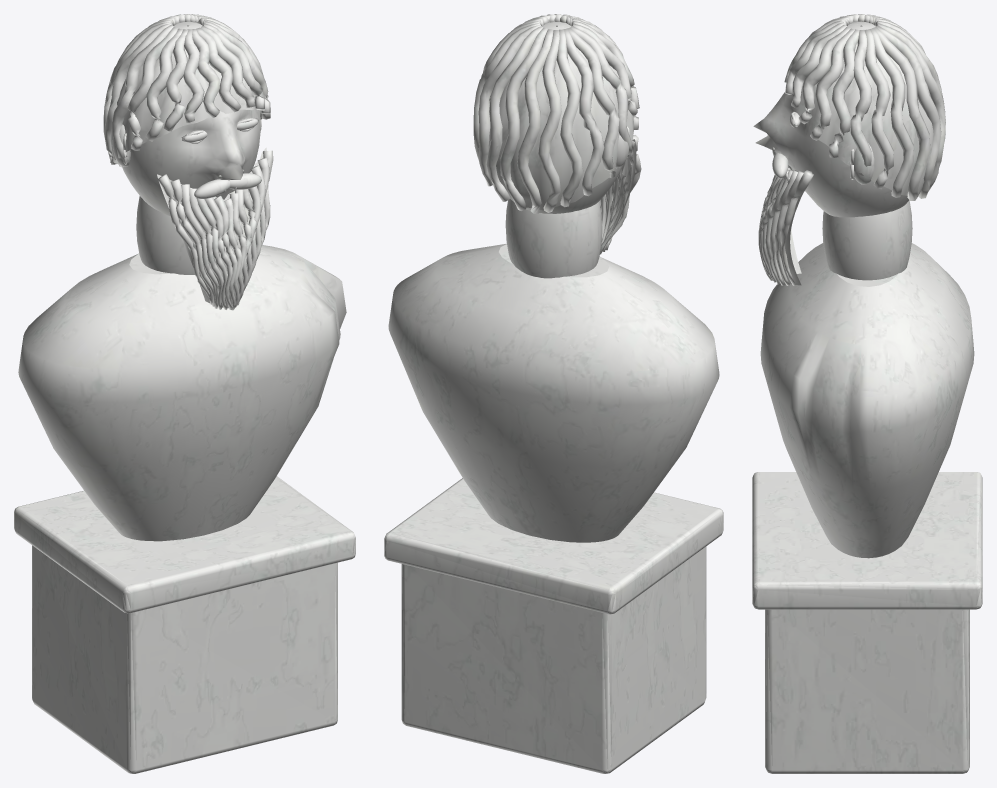
Rendered from bearded_bust.glb.
3 renders of one model, left to right at view 1: azimuth 30°, elevation 25°; view 2: azimuth 150°, elevation 25°; view 3: azimuth 270°, elevation 25°, orthographic.
Visible parts, largest first — view 1: 13 Bearded Bust; view 2: 13 Bearded Bust; view 3: 13 Bearded Bust.
Part boxes in pixels (left/top/right/bottom): 13 Bearded Bust: left=14, top=14, right=355, bottom=773; 13 Bearded Bust: left=384, top=14, right=723, bottom=773; 13 Bearded Bust: left=752, top=14, right=982, bottom=773.
Bounding box in the file's own units: 0.72 × 1.51 × 0.45.
Materials: 2 (2 with a texture image).
